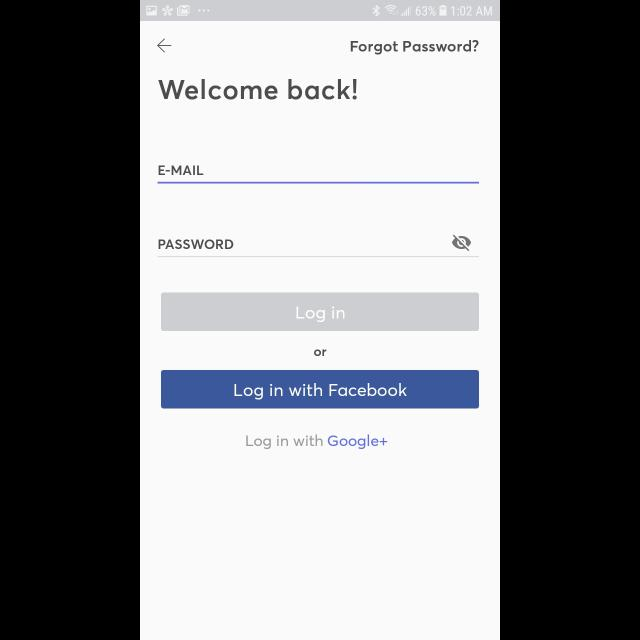icon: (452, 234, 472, 252), (158, 38, 172, 54)
input: (158, 235, 478, 258), (157, 166, 479, 184)
text: (158, 80, 358, 100), (246, 434, 388, 450), (351, 40, 479, 56), (314, 349, 326, 356)
textbutton: (161, 370, 479, 410), (162, 292, 478, 332)
uppertaskbar: (140, 1, 500, 22)
